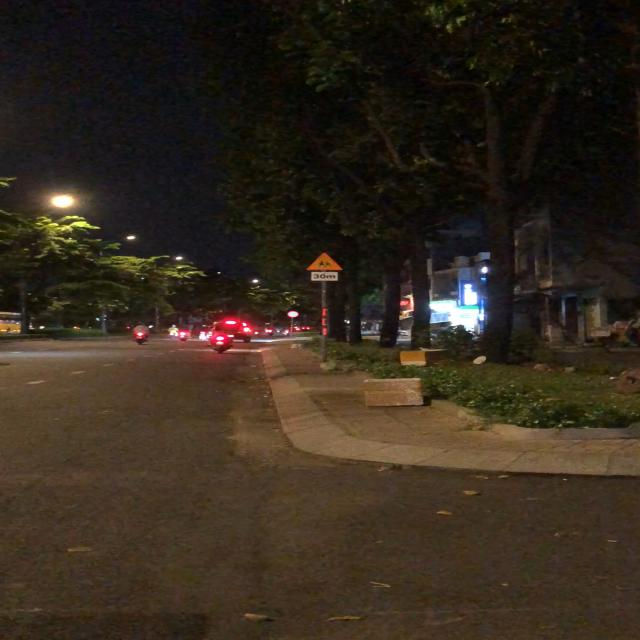Bien bao tre em: (306, 252, 348, 272)
